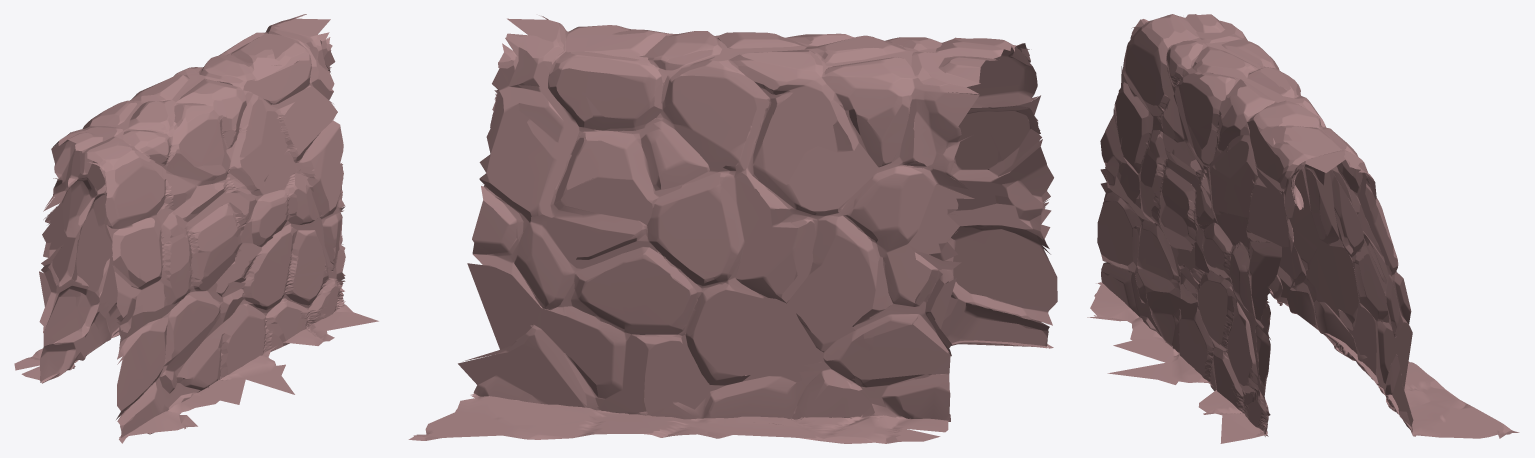
Rendered from cliff_area_2.fbx_Cliff_Area_2_004LODs.fbx.
3 renders of one model, left to right at view 1: azimuth 30°, elevation 25°; view 2: azimuth 150°, elevation 25°; view 3: azimuth 270°, elevation 25°, orthographic. The views are drawn at different scales.
Parts seen in each view (by area): view 1: Cliff Area 2.004_LOD0; view 2: Cliff Area 2.004_LOD0; view 3: Cliff Area 2.004_LOD0.
Boxes of the visible parts, left/top/right/bottom form: Cliff Area 2.004_LOD0: left=14, top=14, right=378, bottom=443; Cliff Area 2.004_LOD0: left=408, top=15, right=1057, bottom=443; Cliff Area 2.004_LOD0: left=1087, top=14, right=1519, bottom=443.
Size of what is drawn, in the model's own units: 5065 by 3935 by 5592.
